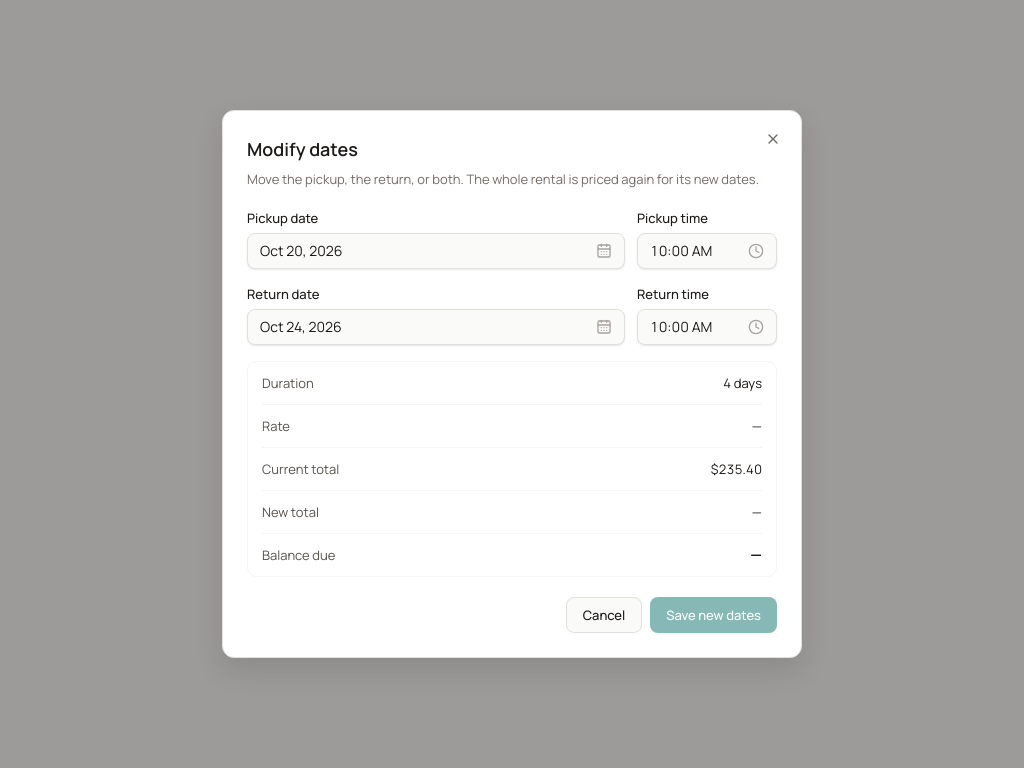
Test: BookingDatesDialog › says what a cheaper rental leaves to refund, and what the change takes back
The width and height of the screenshot is (1024, 768).
Click the button named "Return time" at (707, 327), box [637, 309, 777, 345]
(page scrolled)
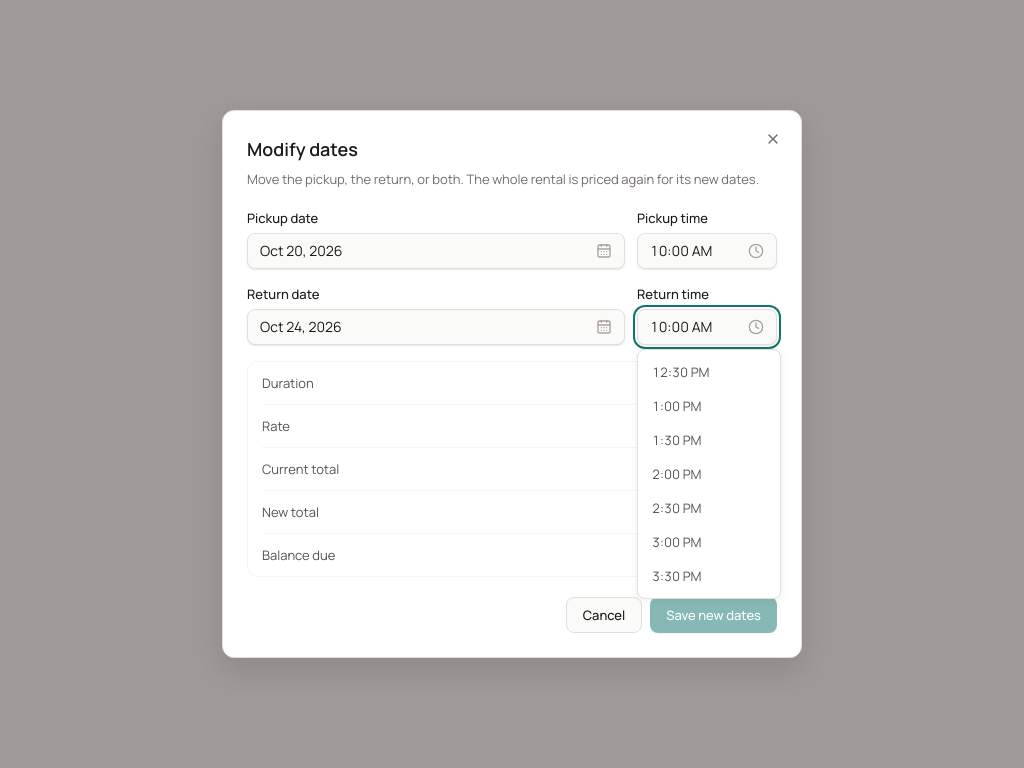
Click the option "2:00 PM" at (709, 474), box [642, 457, 776, 491]
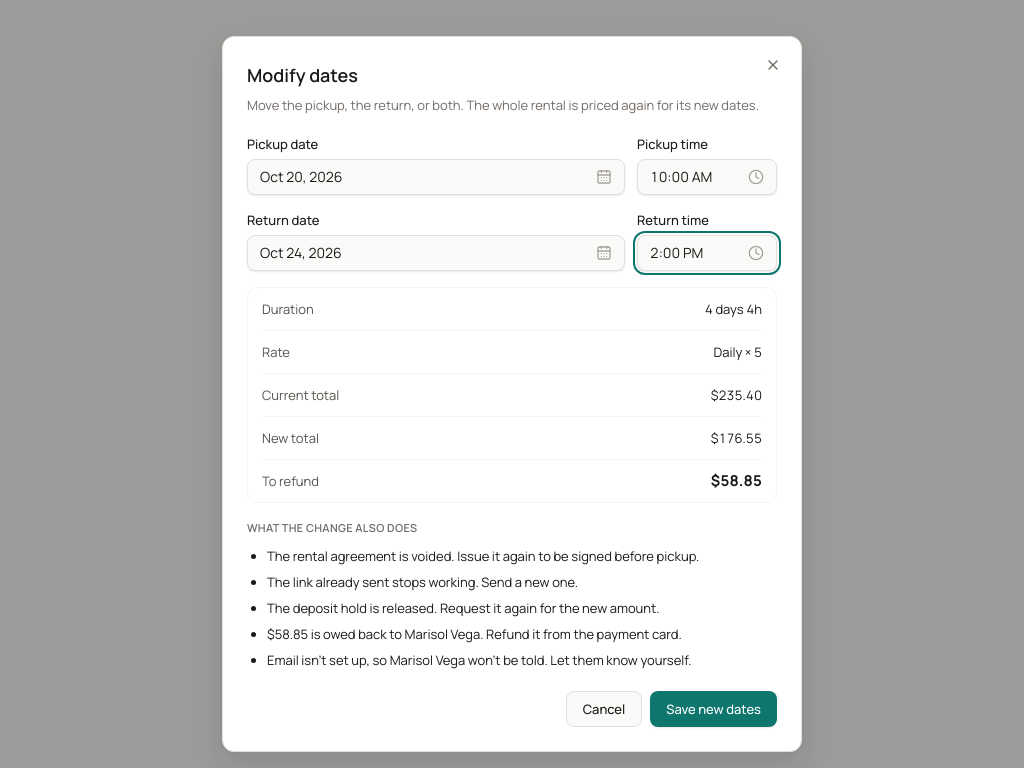
Check: the text "To refund" is shown, box [262, 470, 319, 492]
Check: the list named "What the change also does" shows "agreement is voided", box [267, 547, 699, 565]
Check: the list named "What the change also does" shows "link already sent stops working", box [267, 573, 578, 591]
